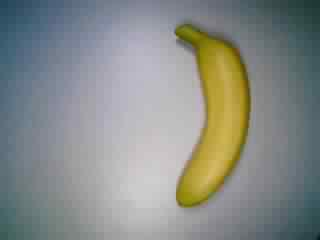banana: (170, 20, 258, 217)
